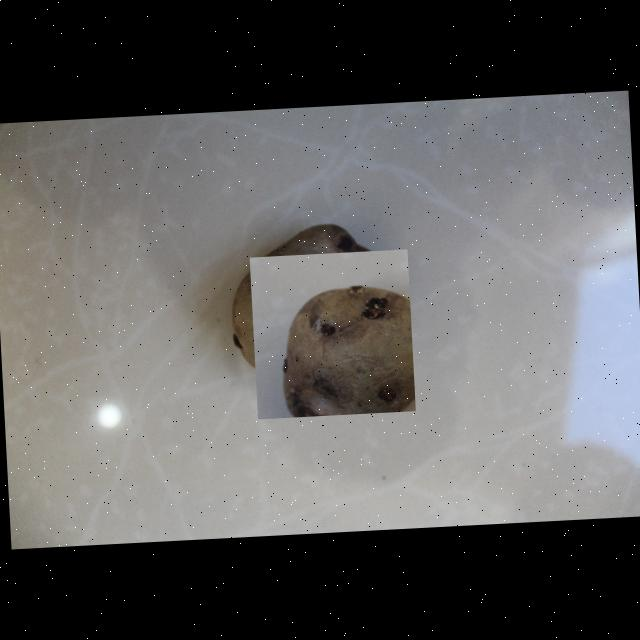Diseased-fungal potato: (250, 250, 416, 420)
